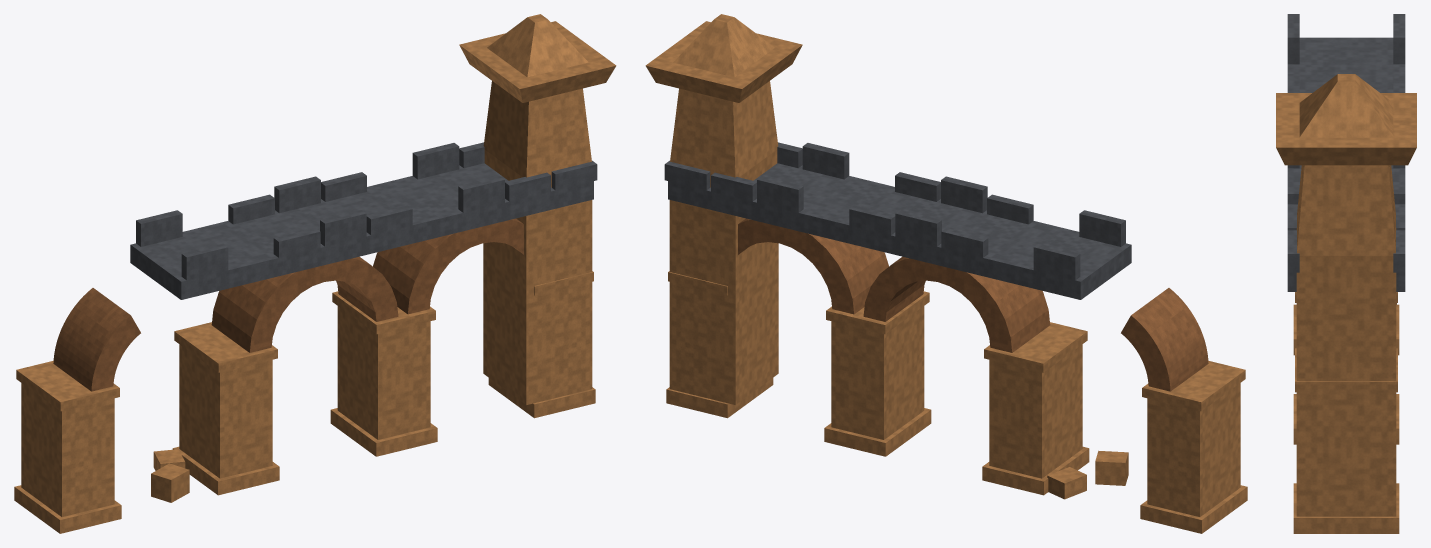
File: Ravine_Aqueduct_Arch.glb
The picture shows the model from 3 angles, left to right: view 1: azimuth 30°, elevation 25°; view 2: azimuth 150°, elevation 25°; view 3: azimuth 270°, elevation 25°; orthographic projection. The views are drawn at different scales.
Parts seen in each view (by area): view 1: Ravine_Aqueduct_Arch__Piers, Ravine_Aqueduct_Arch__Deck, Ravine_Aqueduct_Arch__Arches; view 2: Ravine_Aqueduct_Arch__Piers, Ravine_Aqueduct_Arch__Deck, Ravine_Aqueduct_Arch__Arches; view 3: Ravine_Aqueduct_Arch__Piers, Ravine_Aqueduct_Arch__Deck.
Part boxes in pixels (x1,y1,x2,y2): Ravine_Aqueduct_Arch__Piers: (14, 14, 616, 533); Ravine_Aqueduct_Arch__Deck: (130, 142, 597, 299); Ravine_Aqueduct_Arch__Arches: (53, 218, 523, 391); Ravine_Aqueduct_Arch__Piers: (645, 14, 1247, 533); Ravine_Aqueduct_Arch__Deck: (664, 142, 1131, 299); Ravine_Aqueduct_Arch__Arches: (738, 218, 1208, 391); Ravine_Aqueduct_Arch__Piers: (1276, 74, 1416, 533); Ravine_Aqueduct_Arch__Deck: (1287, 14, 1405, 291).
Size of the model in its own units: 125 by 82 by 24.
Materials: 3 (3 with a texture image).
